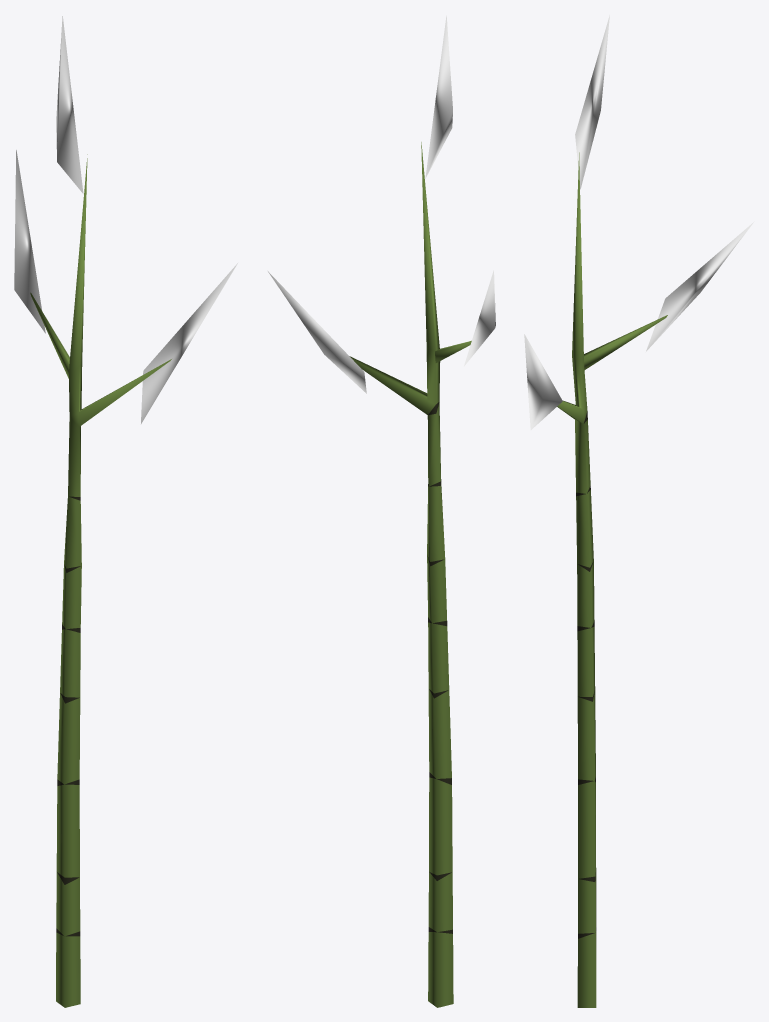
Rendered from bambooSmall1.glb.
3 views of the same model, side by side, from view 1: azimuth 30°, elevation 25°; view 2: azimuth 210°, elevation 25°; view 3: azimuth 270°, elevation 25° (orthographic).
Parts seen in each view (by area): view 1: Cube; view 2: Cube; view 3: Cube.
Boxes of the visible parts, bbox=[...] form: Cube: bbox=[14, 16, 237, 1007]; Cube: bbox=[268, 15, 495, 1007]; Cube: bbox=[524, 15, 754, 1007].
Bounding box in the file's own units: 1 × 6 × 1.26.
